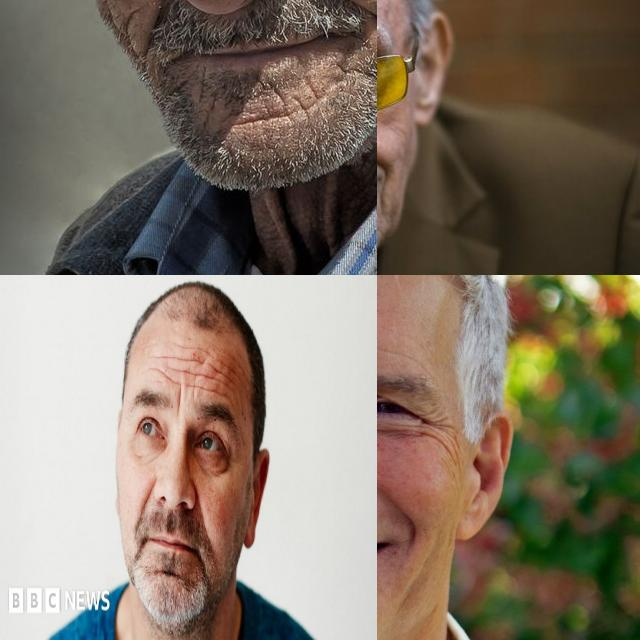chin: (190, 75, 220, 125), (275, 90, 319, 122), (230, 106, 270, 134)
crows_feet: (415, 408, 451, 440)
forehead: (152, 360, 178, 387), (202, 372, 221, 399), (199, 344, 216, 374), (180, 354, 196, 385), (216, 362, 232, 387)
frown_line: (176, 386, 183, 415)
gummy_smile: (386, 494, 426, 548), (377, 139, 405, 167), (140, 475, 153, 517), (195, 487, 207, 529)
masseter: (93, 0, 130, 31)
sad_smile: (377, 181, 390, 213)
